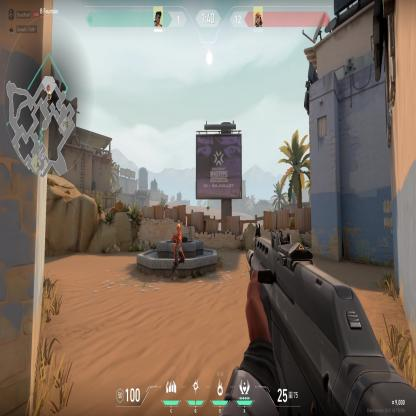enemy: (170, 222, 185, 282)
